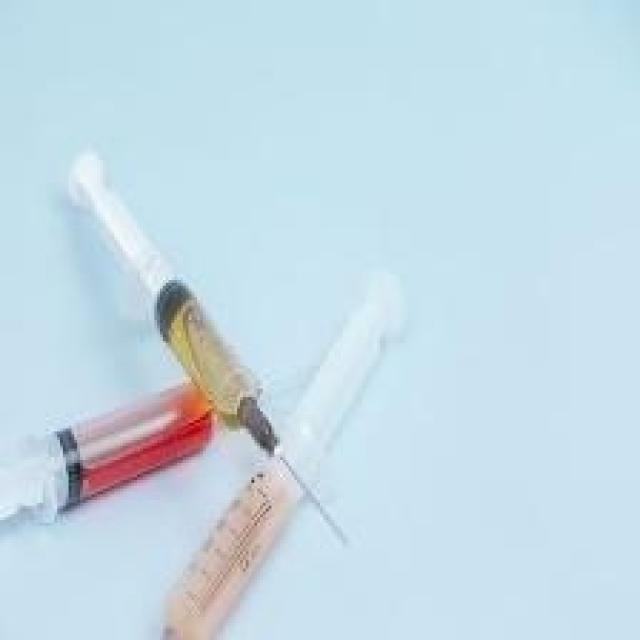syringe: (7, 174, 441, 640)
